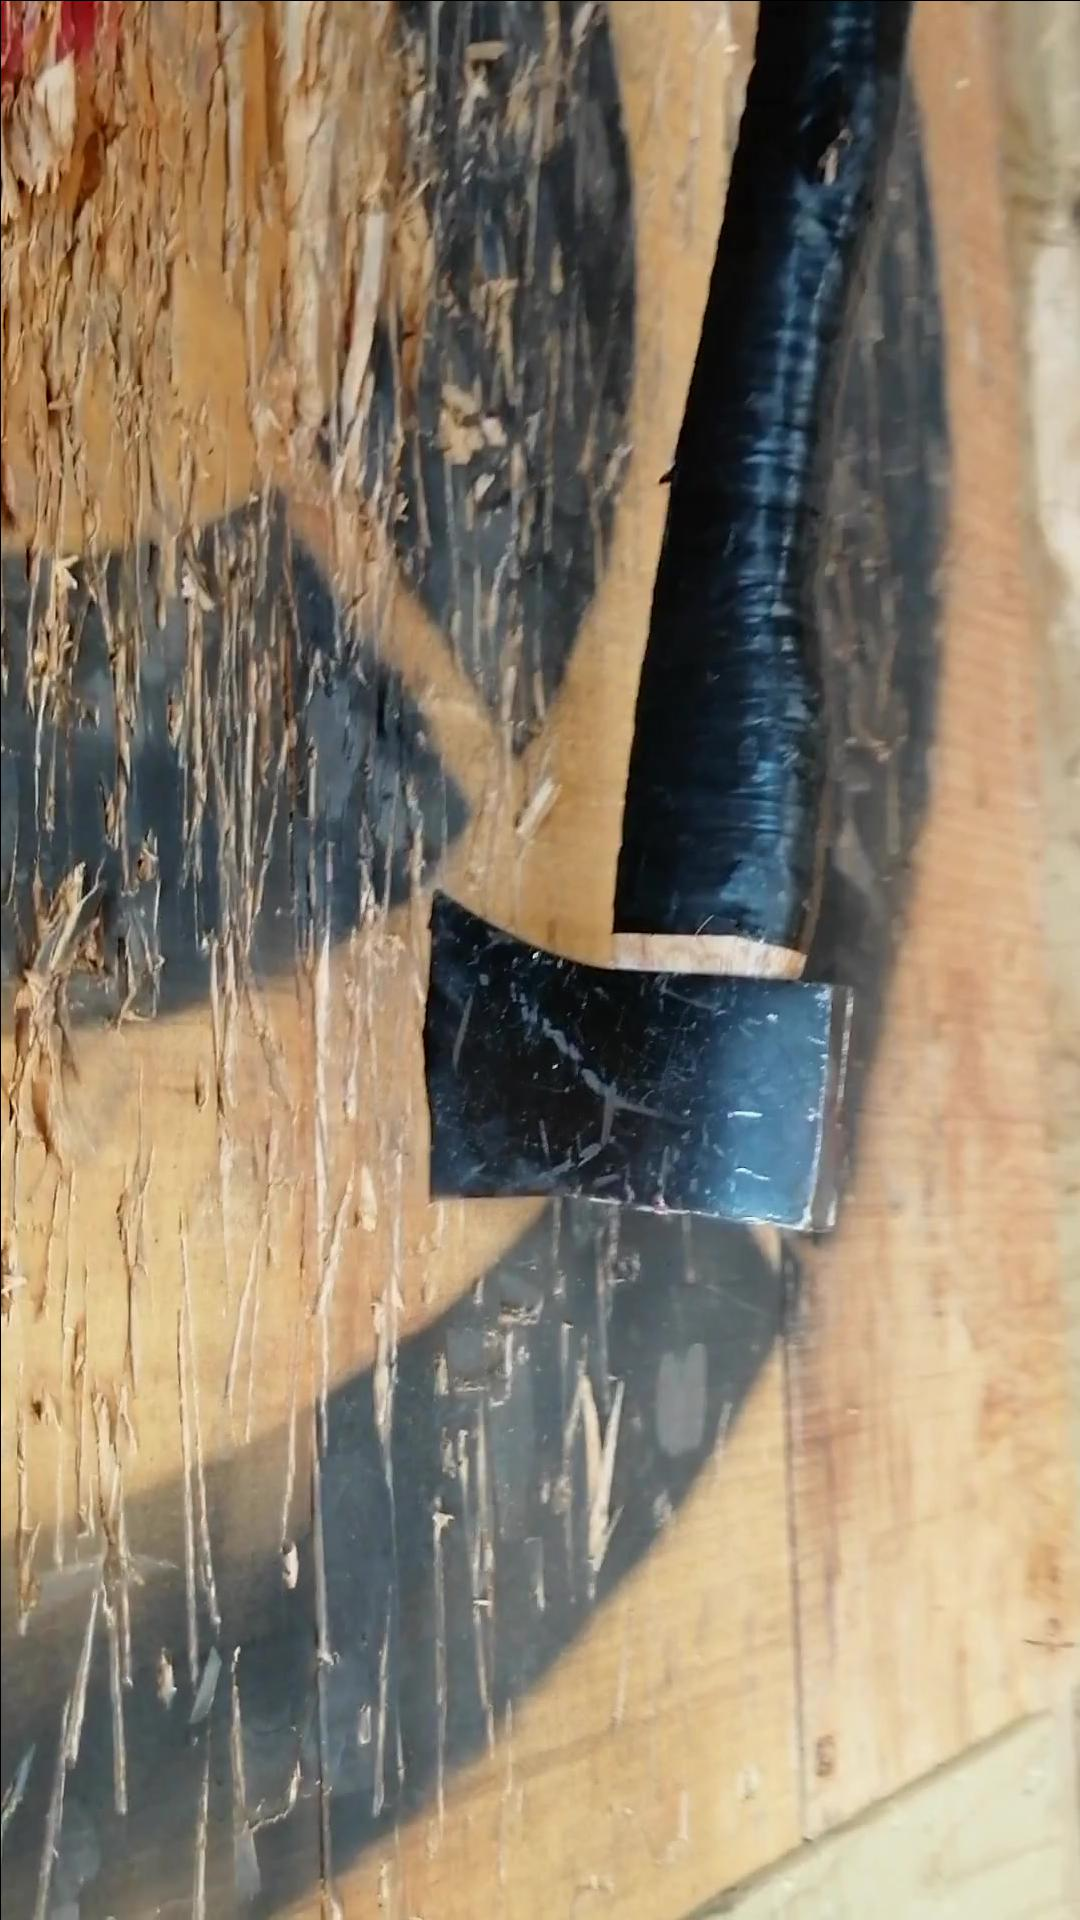Hand Axe: (415, 885, 858, 1240)
